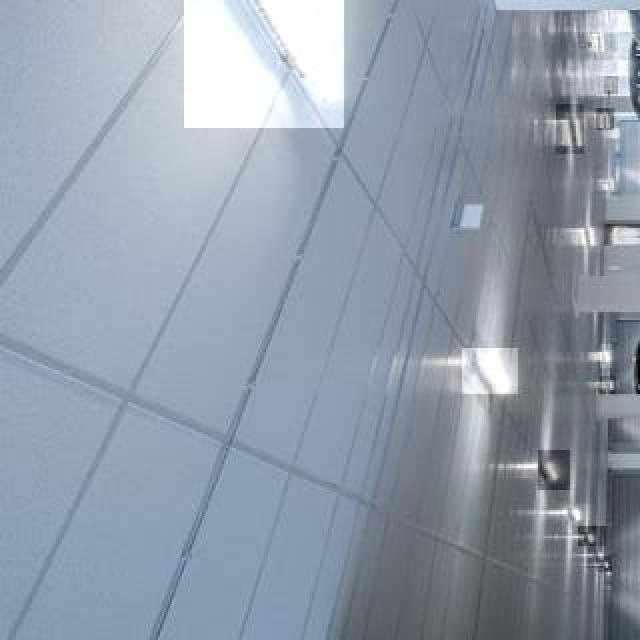fluorescent tube: (216, 0, 310, 98), (469, 353, 526, 391), (538, 449, 567, 487), (567, 113, 591, 149)
